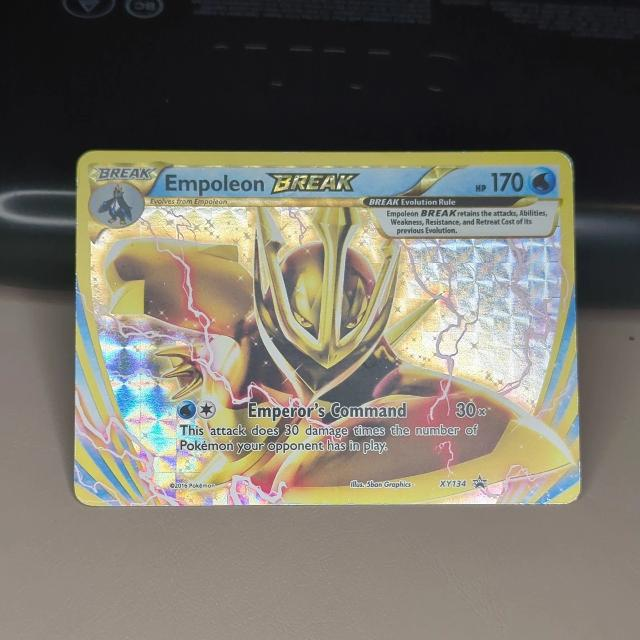Card: (68, 146, 588, 514)
Name: (163, 169, 368, 198)
